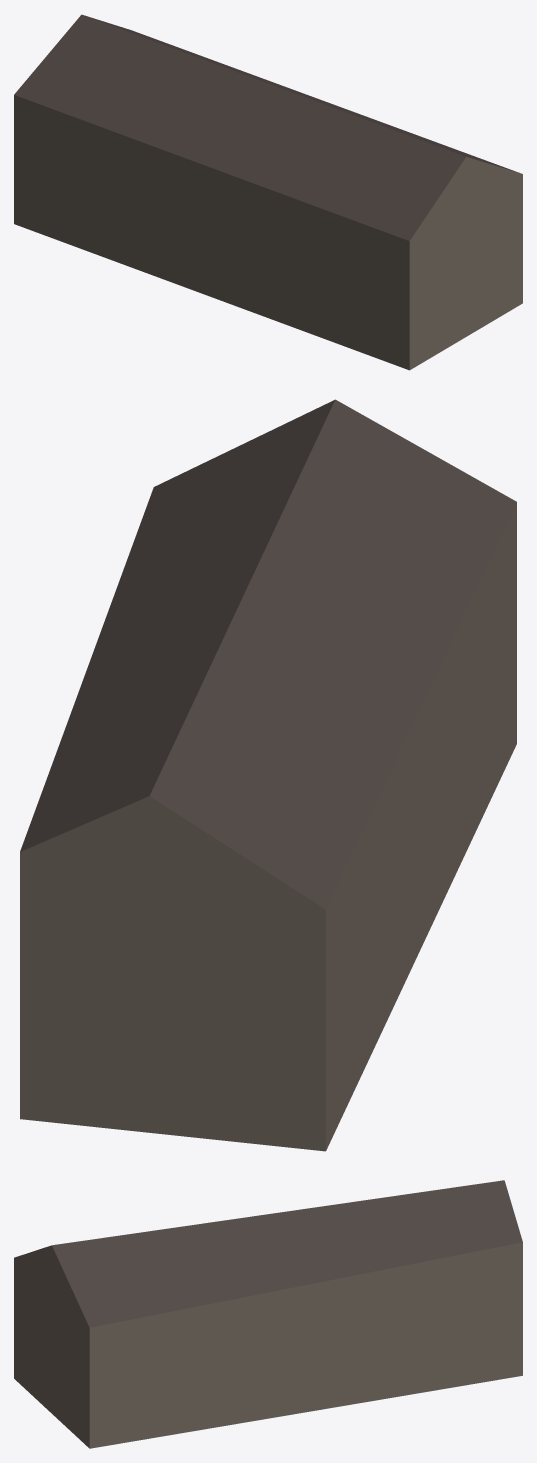
3 views of the same model, one above another, from view 1: azimuth 30°, elevation 25°; view 2: azimuth 150°, elevation 25°; view 3: azimuth 270°, elevation 25° (orthographic). The views are drawn at different scales.
Visible parts, largest first — view 1: HP-w1512914159; view 2: HP-w1512914159; view 3: HP-w1512914159.
Boxes of the visible parts, left/top/right/bottom form: HP-w1512914159: left=14, top=14, right=522, bottom=370; HP-w1512914159: left=20, top=399, right=516, bottom=1151; HP-w1512914159: left=14, top=1180, right=522, bottom=1448.
Bounding box in the file's own units: 14.6 × 8.36 × 22.9.
